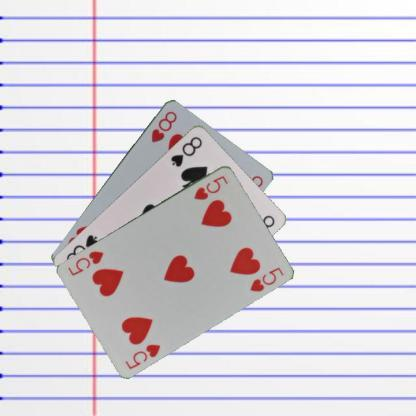5h: (122, 341, 162, 370), (192, 173, 230, 201)
8h: (148, 108, 178, 143)
8s: (168, 134, 204, 168)
